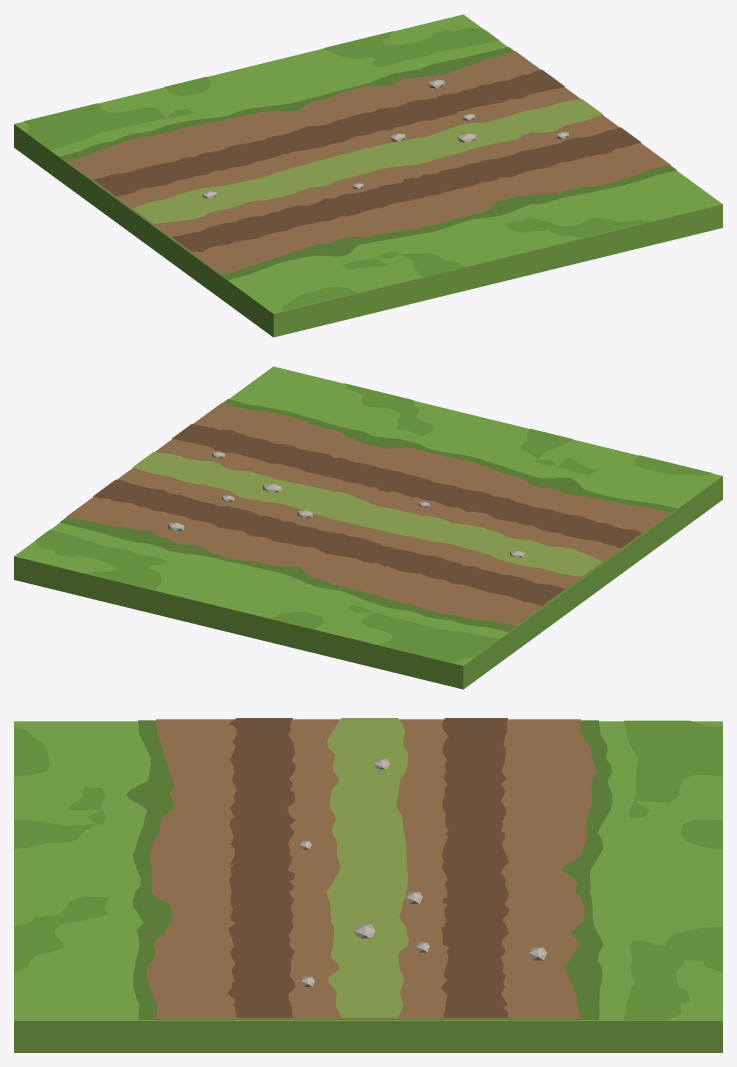
File: GameProject3_FeldWegGerade.fbx
3 renders of one model, top to bottom at view 1: azimuth 30°, elevation 25°; view 2: azimuth 150°, elevation 25°; view 3: azimuth 270°, elevation 25°, orthographic. The views are drawn at different scales.
Visible parts, largest first — view 1: WG_Test_1_0; view 2: WG_Test_1_0; view 3: WG_Test_1_0.
Part boxes in pixels (x1,y1,x2,y2): WG_Test_1_0: (14, 14, 722, 337); WG_Test_1_0: (14, 366, 722, 689); WG_Test_1_0: (14, 718, 722, 1052).
Size of the model in its own units: 200 by 13.12 by 200.
